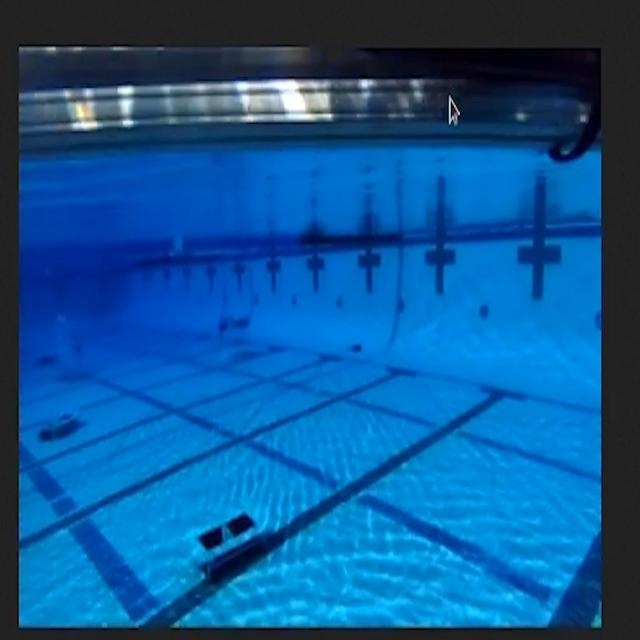Bin: (171, 480, 282, 592)
